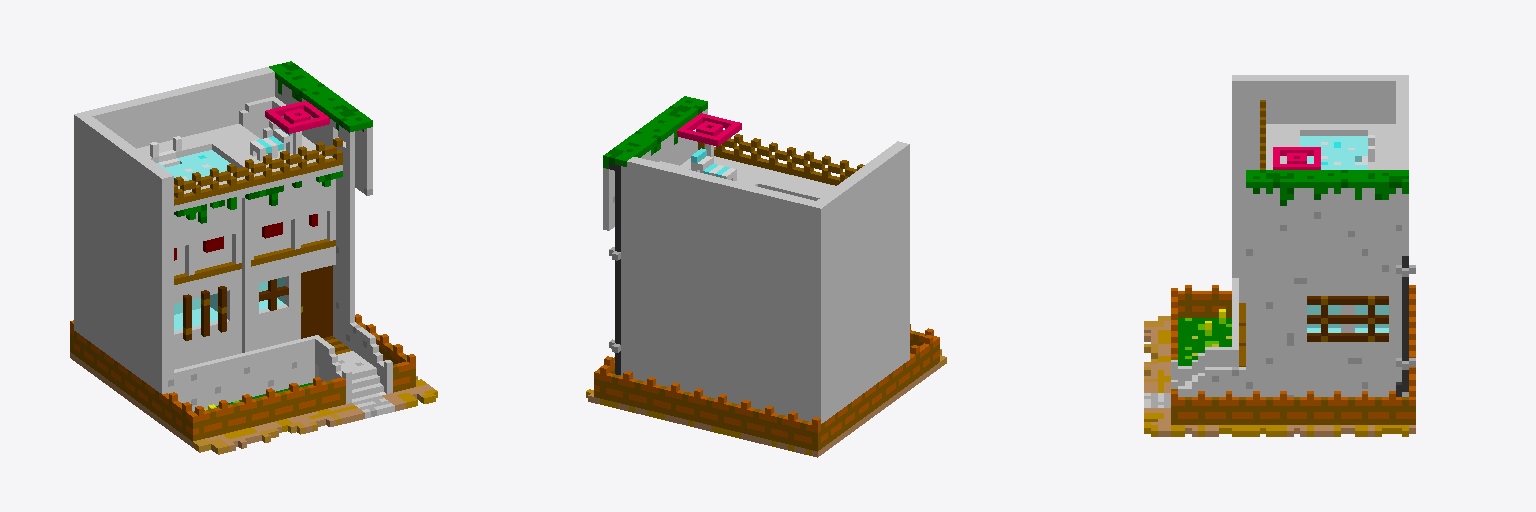
The picture shows the model from 3 angles: view 1: azimuth 30°, elevation 25°; view 2: azimuth 150°, elevation 25°; view 3: azimuth 270°, elevation 25°; orthographic projection.
Size of the model in its own units: 40 by 40 by 40.
Materials: 1 (1 with a texture image).